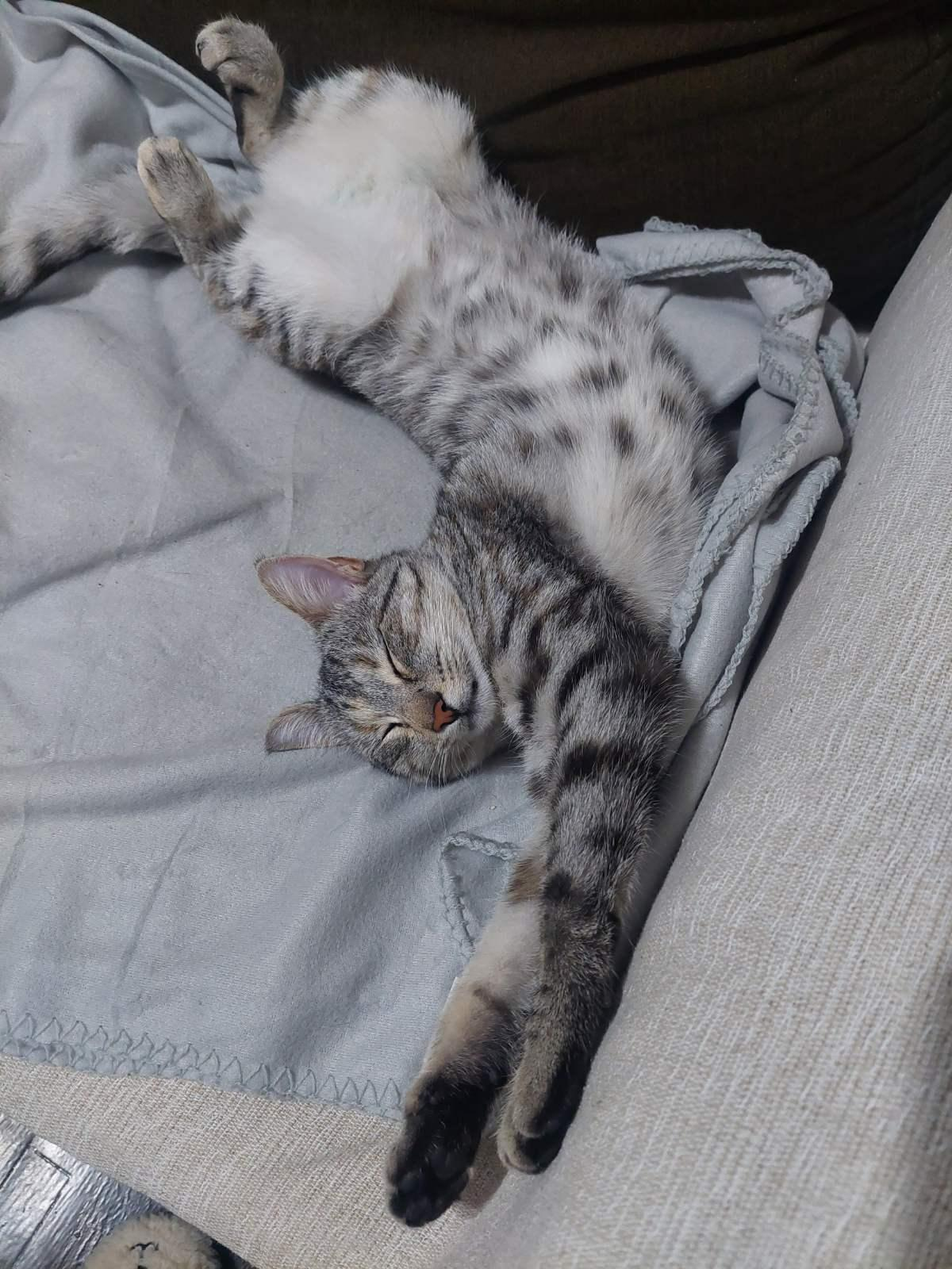macka: (0, 17, 703, 1219)
